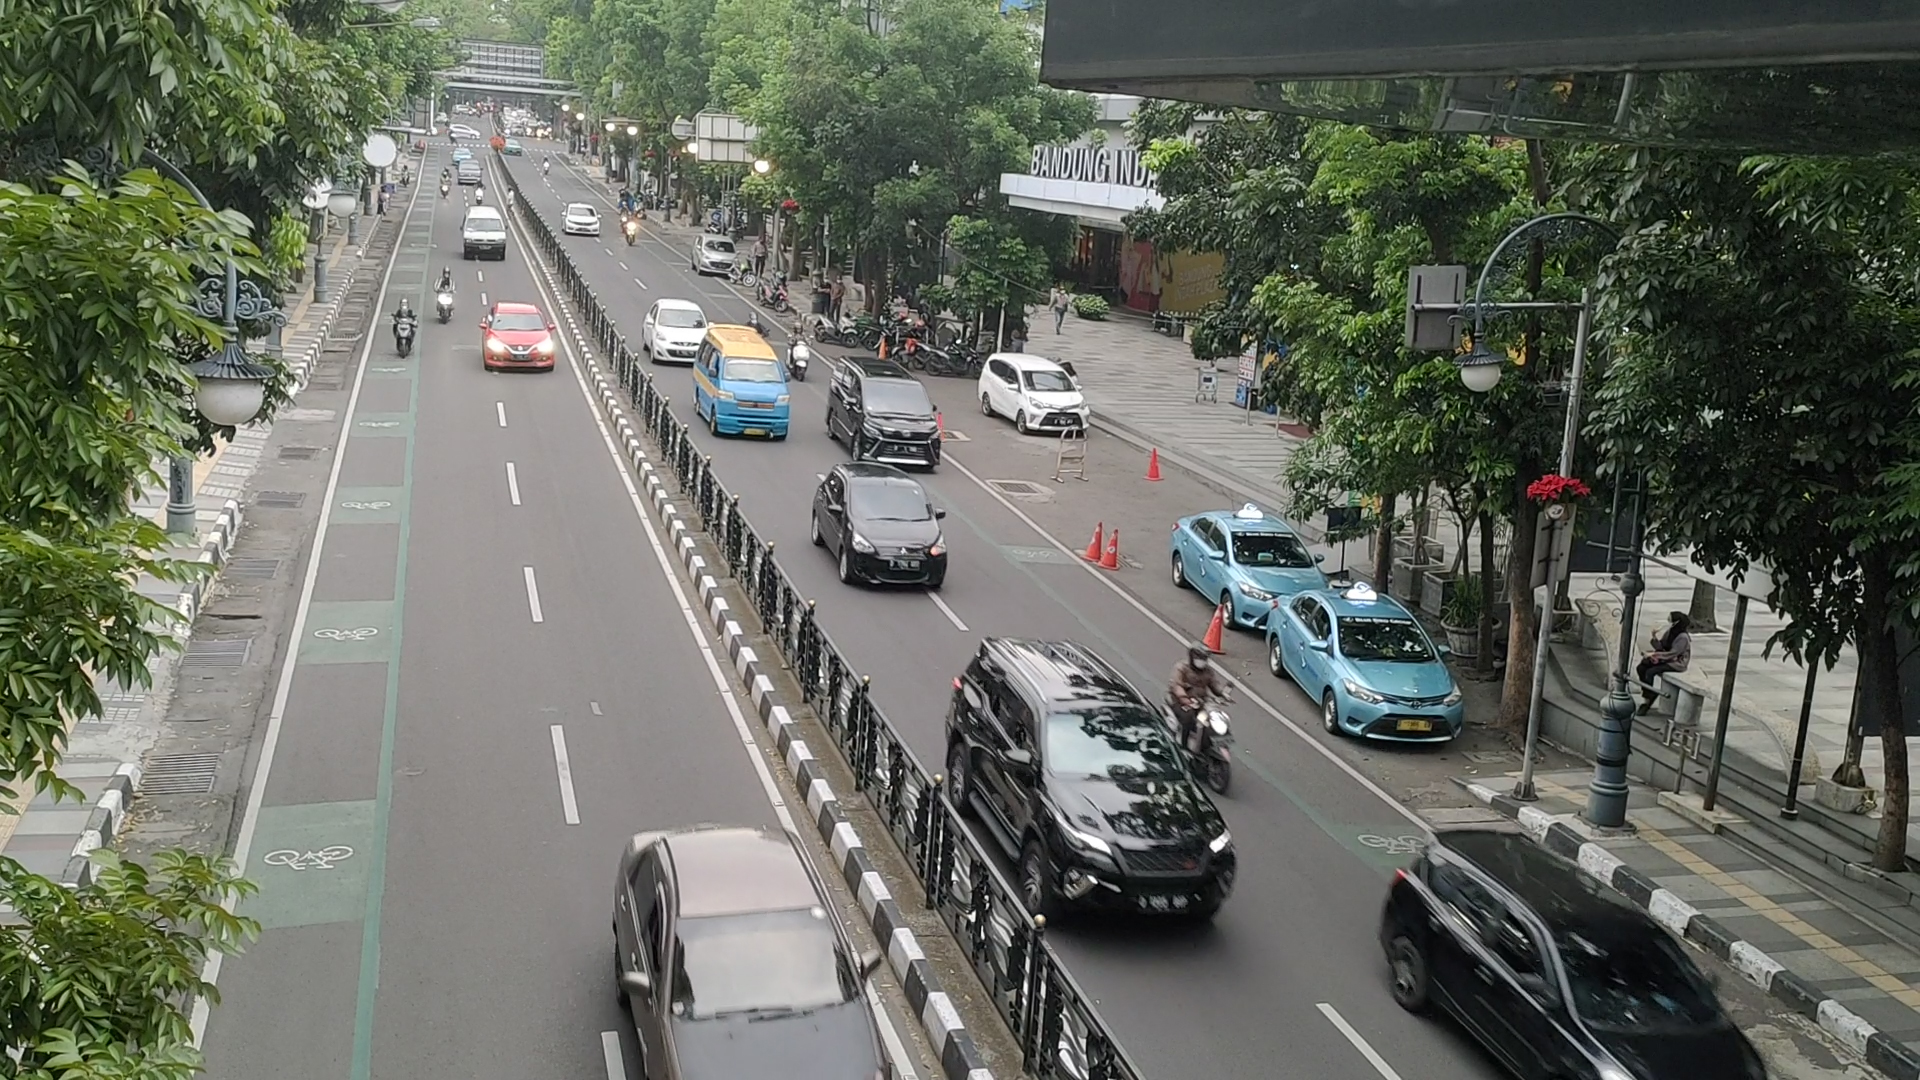mobil: (1030, 713, 1236, 938), (1325, 613, 1473, 746), (841, 477, 949, 589), (855, 373, 943, 473), (713, 349, 793, 447), (1013, 363, 1095, 444), (484, 305, 556, 377)
motor: (1160, 632, 1244, 804)
